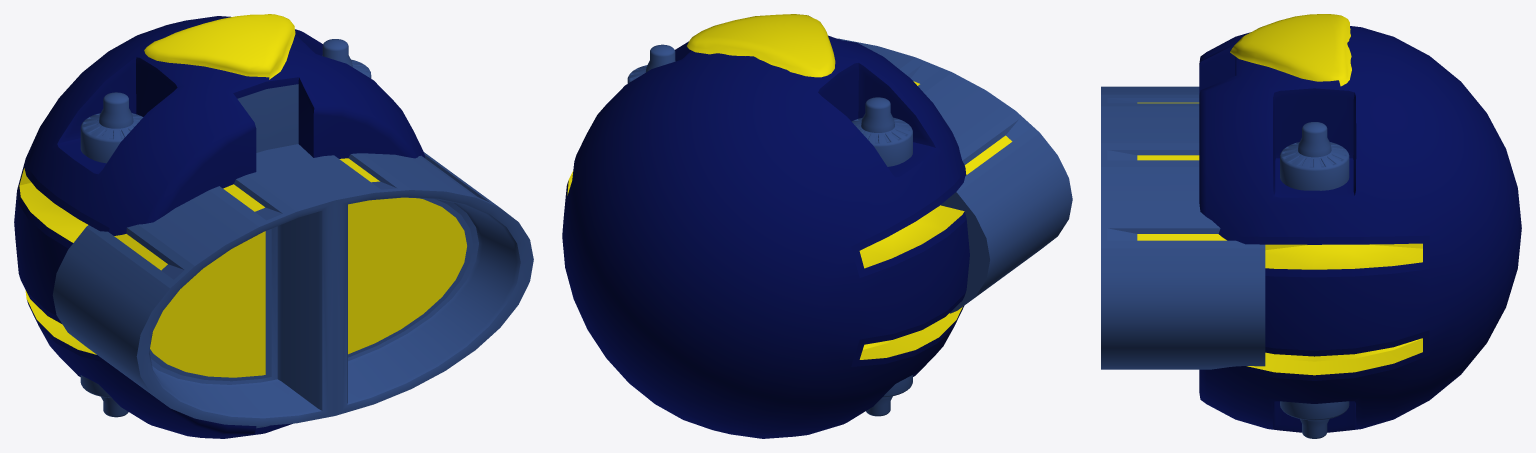
File: Vso_Station_Gatling_Gun_Arc_Head.fbx
3 renders of one model, left to right at view 1: azimuth 30°, elevation 25°; view 2: azimuth 150°, elevation 25°; view 3: azimuth 270°, elevation 25°, orthographic. The views are drawn at different scales.
Visible parts, largest first — view 1: Vso_Station_Gatling_Gun_Arc_Head; view 2: Vso_Station_Gatling_Gun_Arc_Head; view 3: Vso_Station_Gatling_Gun_Arc_Head.
Part boxes in pixels (box(x1,y1,x2,y2)): Vso_Station_Gatling_Gun_Arc_Head: box(14, 14, 533, 438); Vso_Station_Gatling_Gun_Arc_Head: box(562, 14, 1072, 438); Vso_Station_Gatling_Gun_Arc_Head: box(1101, 14, 1521, 438).
Bounding box in the file's own units: 0.3717 × 0.3503 × 0.3493.
